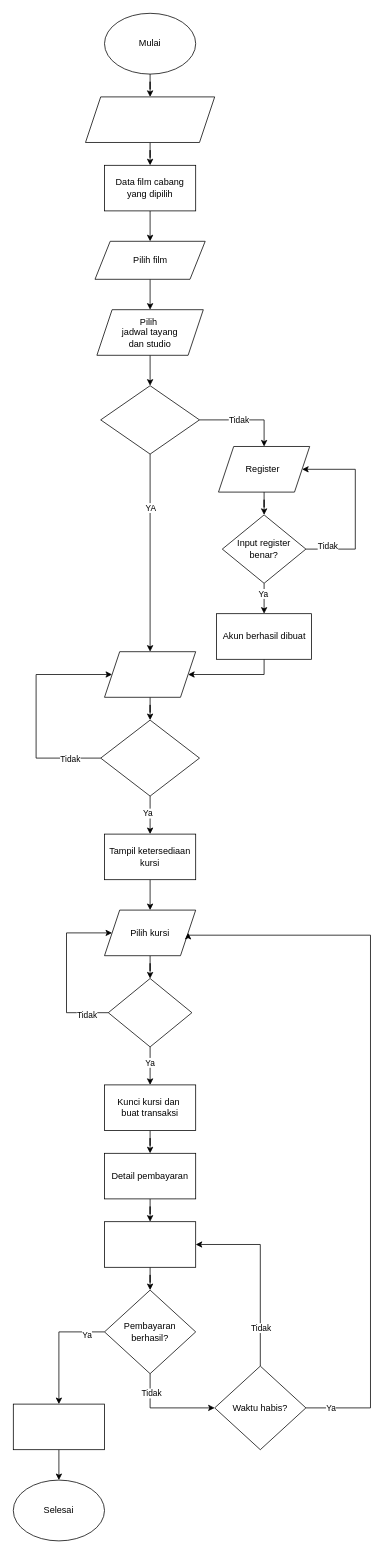
Some shapes in this 390 by 1554 pixel diagram are drawn without their labels. The centre of each missing label's shape, as x and y in pixels:
Input login benar?: point 150,757
Kursi tersedia?: point 150,1012
Login: point 150,674
Pilih cabang bisokop: point 150,119
Sudah punya akun?: point 150,419
Tampilkan e-ticket: point 58,1426
Waktu pembayaran 10 menit: point 150,1244
